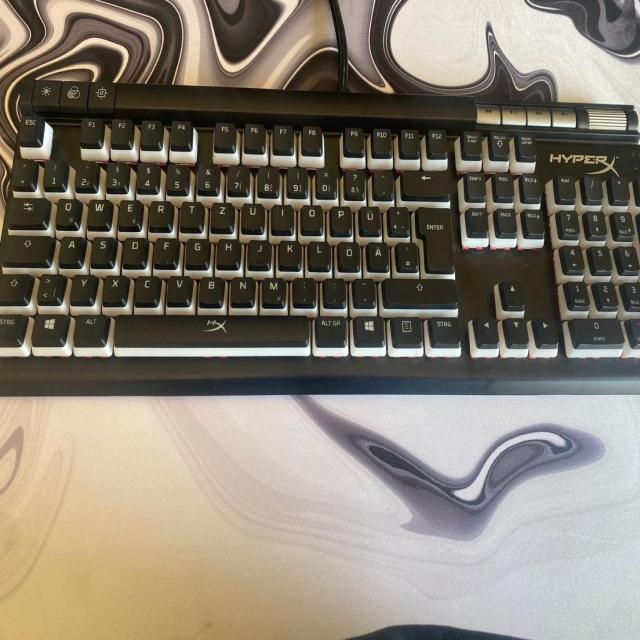0: (313, 165, 337, 197)
1: (41, 158, 63, 186)
2: (73, 158, 97, 190)
3: (104, 159, 128, 191)
4: (135, 160, 159, 192)
5: (165, 161, 190, 194)
6: (195, 161, 220, 193)
7: (225, 163, 249, 195)
8: (255, 164, 280, 197)
9: (284, 165, 309, 197)
a: (57, 233, 81, 263)
accent: (371, 167, 393, 198)
ae: (365, 239, 388, 269)
alt-left: (71, 311, 109, 349)
altgr-right: (312, 313, 347, 350)
b: (197, 274, 223, 305)
c: (133, 273, 160, 304)
caret: (10, 157, 35, 188)
comma: (291, 275, 315, 306)
d: (121, 234, 144, 264)
del: (399, 168, 449, 195)
e: (117, 197, 141, 228)
enter: (414, 202, 452, 269)
f: (153, 234, 176, 264)
g: (184, 235, 208, 266)
h: (215, 236, 240, 266)
hash: (394, 239, 417, 269)
i: (270, 203, 293, 231)
j: (246, 237, 271, 268)
k: (277, 237, 301, 267)
keyboard: (0, 76, 640, 397)
l: (306, 238, 330, 268)
less: (35, 270, 65, 304)
m: (260, 276, 286, 307)
minus: (351, 276, 376, 307)
n: (229, 274, 255, 305)
o: (299, 203, 322, 231)
oe: (336, 239, 360, 269)
p: (328, 203, 351, 232)
plus: (386, 204, 408, 235)
point: (321, 275, 345, 306)
q: (54, 196, 81, 226)
r: (148, 198, 172, 227)
s: (89, 233, 112, 264)
shift-left: (0, 271, 33, 303)
shift-lock: (0, 232, 51, 263)
shift-right: (380, 276, 457, 307)
space: (110, 312, 312, 348)
ss: (341, 167, 365, 198)
strg-left: (0, 312, 26, 346)
strg-right: (425, 314, 462, 347)
t: (178, 199, 202, 227)
tab: (5, 194, 48, 224)
u: (240, 201, 264, 231)
ue: (358, 203, 381, 234)
v: (165, 273, 192, 304)
w: (86, 196, 109, 226)
x: (101, 272, 129, 304)
y: (68, 271, 97, 303)
z: (209, 200, 233, 228)
